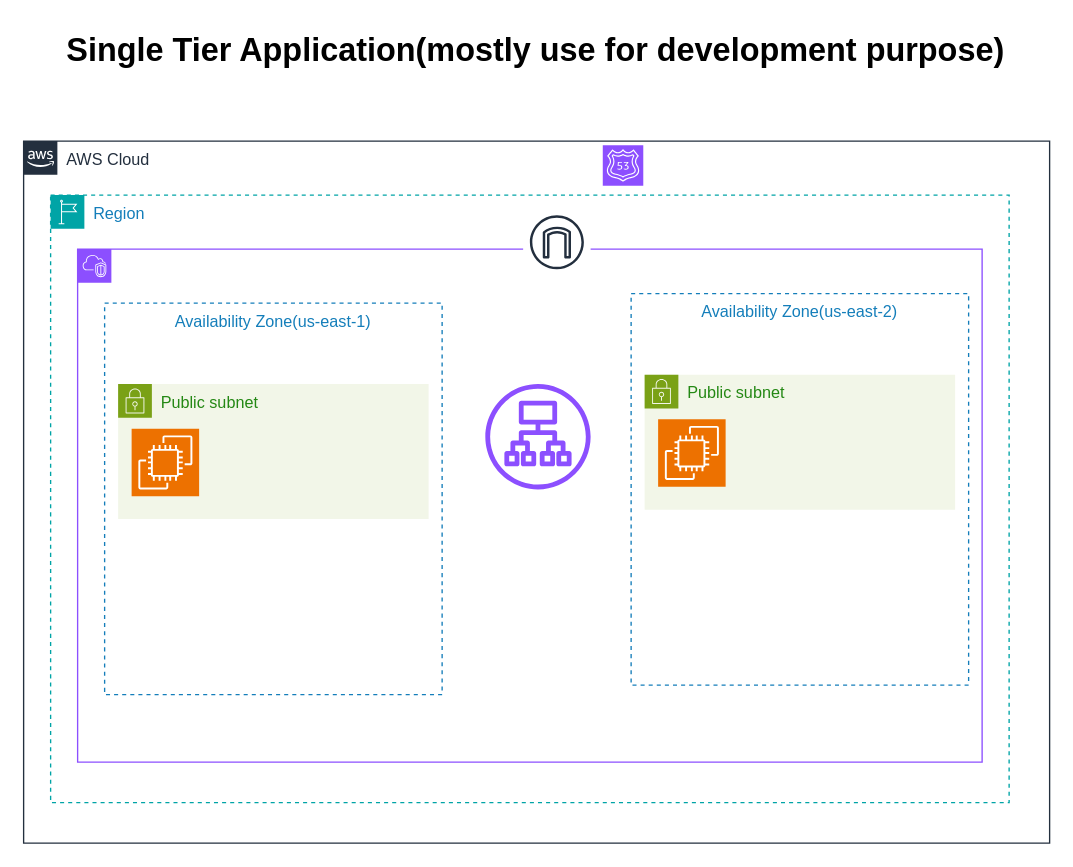
The diagram is 1073 pixels wide and 867 high, and some of its shapes have lost their labels. Here are the shapes that lost their labels. From the top down, the box of each, then its label:
(522, 207, 591, 276): Internet gateway
(76, 248, 982, 762): VPC
